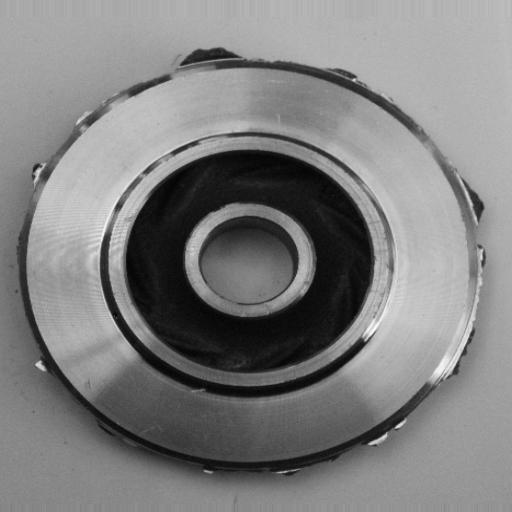casting_with_burr: (14, 40, 488, 479)
scratch: (367, 250, 404, 349)
